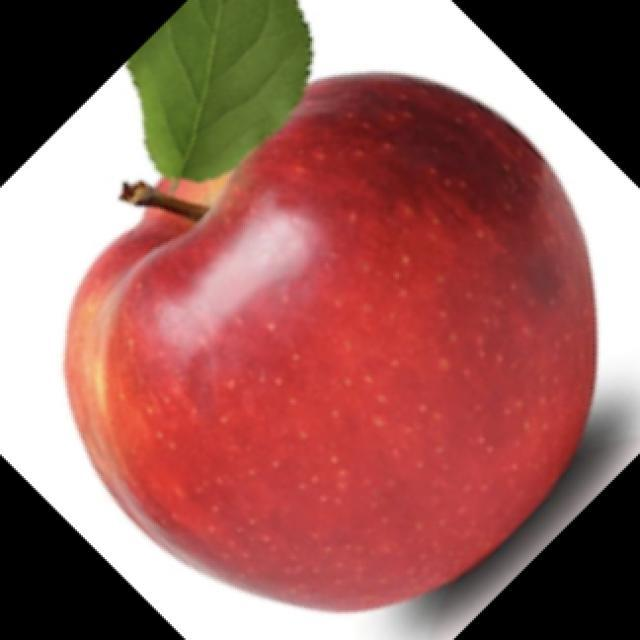Fresh Apple: (23, 73, 607, 597)
